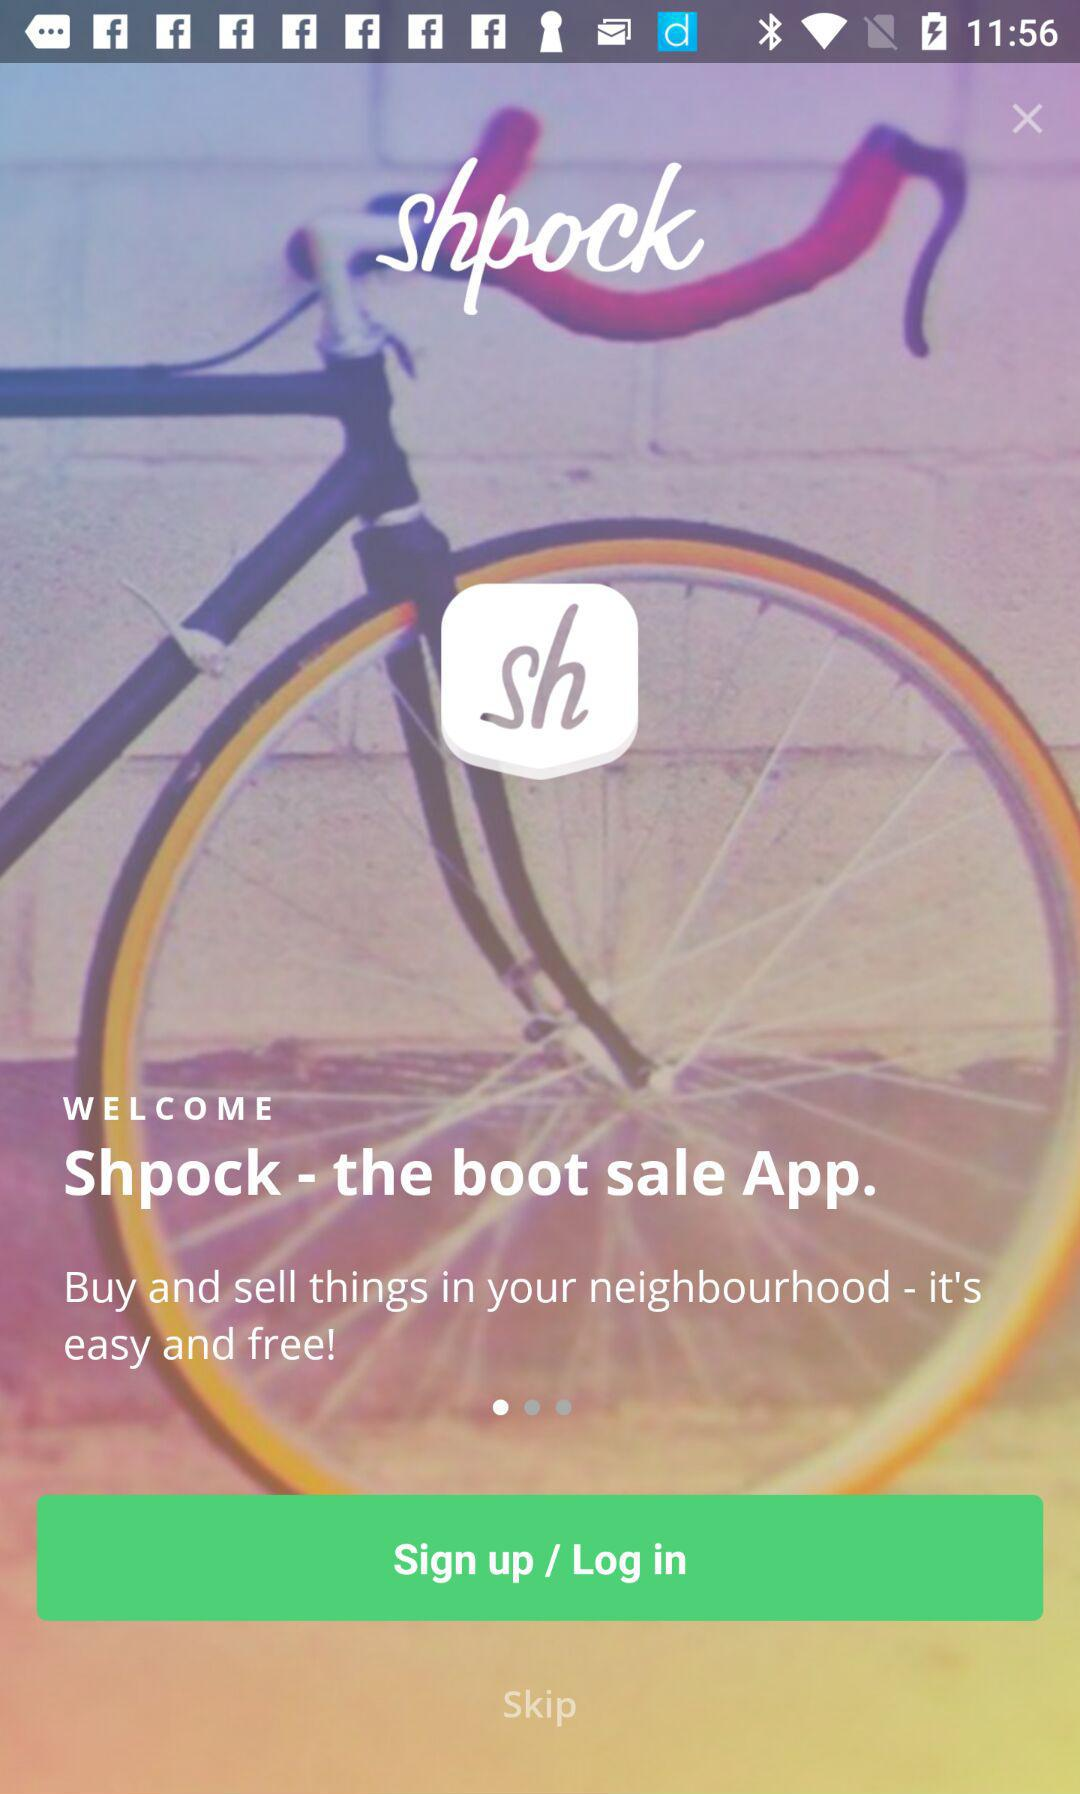BackgroundImage: (1, 64, 1077, 1794)
Icon: (1010, 101, 1045, 137)
Image: (375, 158, 708, 320), (437, 580, 643, 786)
PageIndicator: (492, 1398, 573, 1419)
Text: (63, 1147, 881, 1212), (67, 1269, 986, 1310), (65, 1328, 337, 1371), (56, 1090, 272, 1123), (503, 1689, 577, 1727)
TextButton: (38, 1495, 1043, 1622)
UpperTaskBar: (1, 1, 1080, 64)
